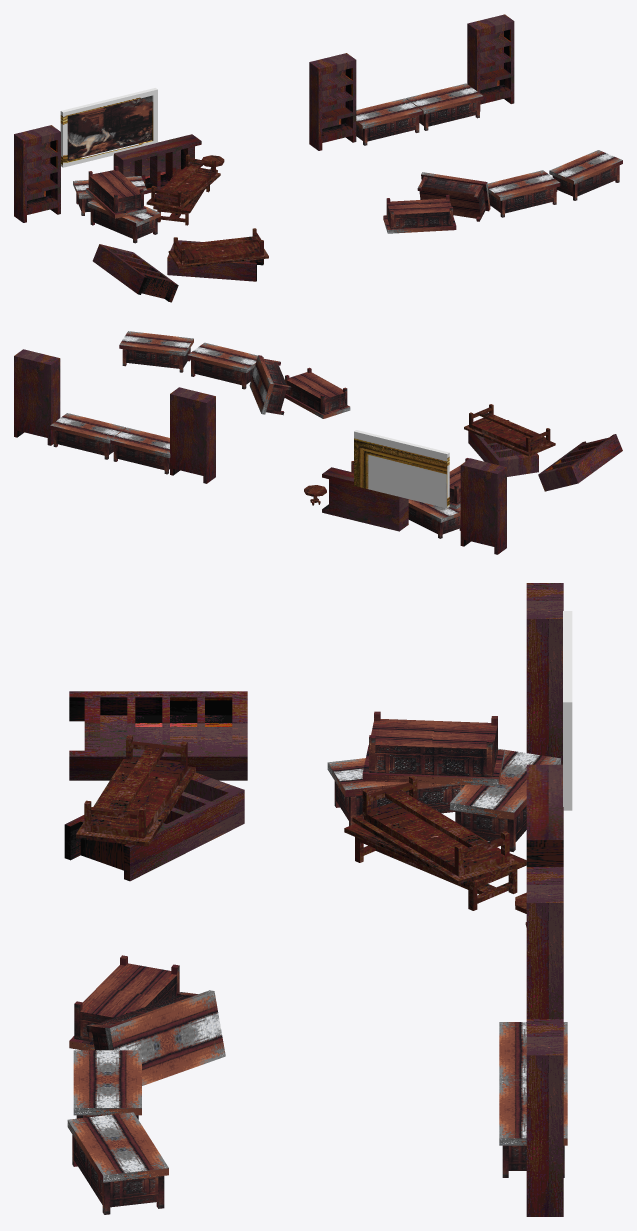
File: ROOM1_Objects.fbx
The picture shows the model from 3 angles, top to bottom: view 1: azimuth 30°, elevation 25°; view 2: azimuth 150°, elevation 25°; view 3: azimuth 270°, elevation 25°; orthographic projection. The views are drawn at different scales.
Parts seen in each view (by area): view 1: bookshelf.001, bookshelf.003, painting.001, bookshelf.002, bookshelf, bookshelf.016, table.002, cabinet.007, cabinet.004, cabinet.006, cabinet.005, cabinet.002 (+8 smaller); view 2: painting_frame, bookshelf.003, bookshelf.001, bookshelf.002, bookshelf, bookshelf.016, cabinet.005, table.002, cabinet.004, cabinet.002, cabinet.007, cabinet.003 (+4 smaller); view 3: bookshelf.016, cabinet.010, table.001, cabinet.006, table.002, bookshelf.015, bookshelf.002, cabinet.005, bookshelf.003, bookshelf.001, cabinet, cabinet.007 (+7 smaller).
Part boxes in pixels (<box>): bookshelf.001: <box>309,53,356,150</box>; bookshelf.003: <box>14,125,60,222</box>; painting.001: <box>67,95,152,160</box>; bookshelf.002: <box>467,14,514,111</box>; bookshelf: <box>113,134,201,193</box>; bookshelf.016: <box>92,244,178,302</box>; table.002: <box>168,228,268,268</box>; cabinet.007: <box>383,195,456,233</box>; cabinet.004: <box>487,170,560,217</box>; cabinet.006: <box>417,172,490,221</box>; cabinet.005: <box>549,150,622,200</box>; cabinet.002: <box>406,83,483,130</box>; painting_frame: <box>354,430,449,508</box>; bookshelf.003: <box>460,458,506,554</box>; bookshelf.001: <box>170,387,215,483</box>; bookshelf.002: <box>14,349,60,445</box>; bookshelf: <box>322,467,408,531</box>; bookshelf.016: <box>538,434,622,491</box>; cabinet.005: <box>119,331,193,372</box>; table.002: <box>464,404,555,456</box>; cabinet.004: <box>187,342,263,389</box>; cabinet.002: <box>50,413,126,459</box>; cabinet.007: <box>284,367,350,418</box>; cabinet.003: <box>110,427,170,474</box>; bookshelf.016: <box>69,691,247,780</box>; cabinet.010: <box>362,711,504,785</box>; table.001: <box>352,775,519,885</box>; cabinet.006: <box>86,990,225,1085</box>; table.002: <box>76,735,195,846</box>; bookshelf.015: <box>64,772,244,881</box>; bookshelf.002: <box>526,1019,563,1216</box>; cabinet.005: <box>67,1112,168,1214</box>; bookshelf.003: <box>526,583,563,764</box>; bookshelf.001: <box>526,867,563,1018</box>; cabinet: <box>450,748,560,851</box>; cabinet.007: <box>69,955,179,1050</box>.
Size of the model in its own units: 3620 by 667 by 1636.
